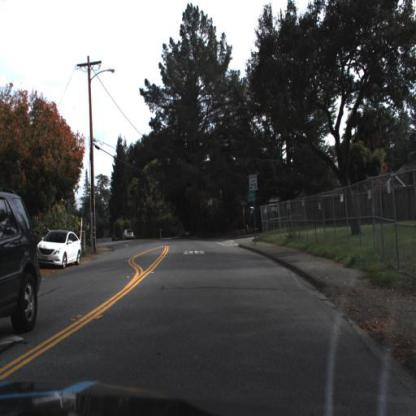car: (37, 230, 84, 266), (120, 224, 136, 244), (122, 227, 135, 242)
